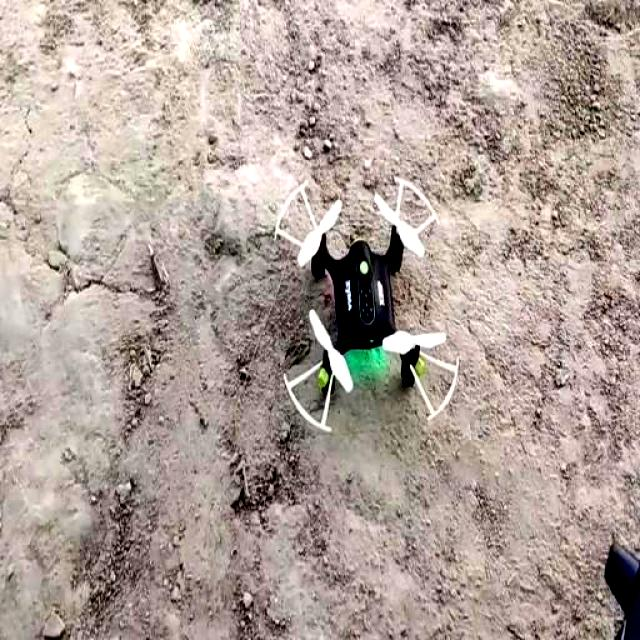bird: (272, 164, 468, 459)
